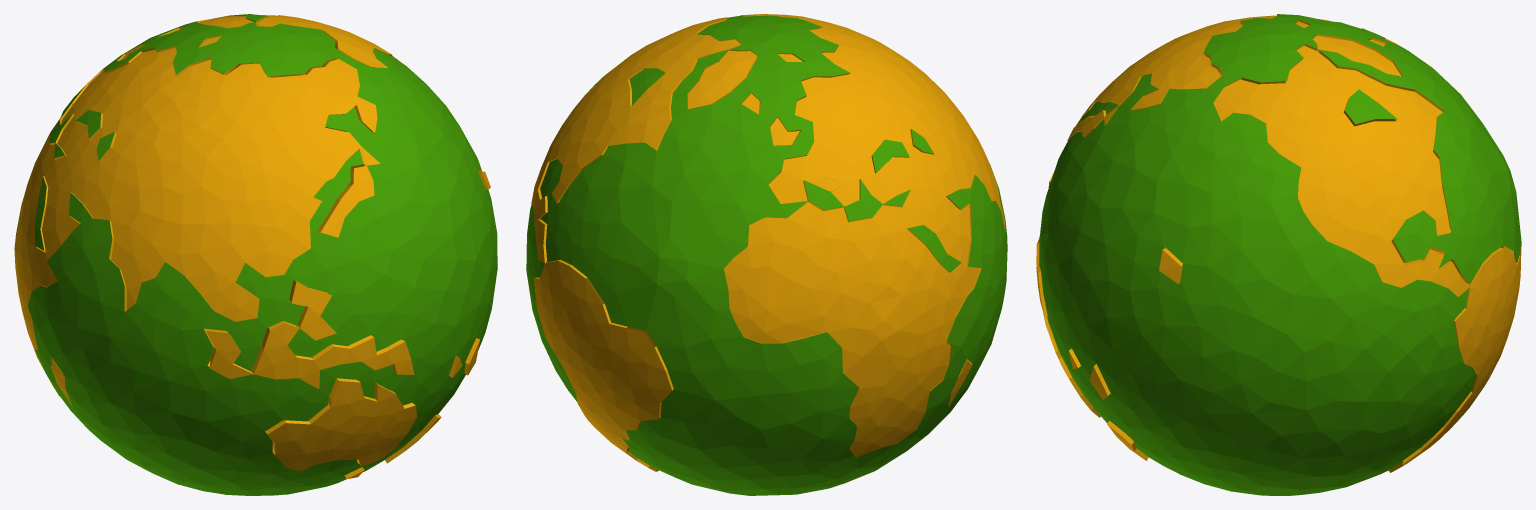
The model's file is Earth4.fbx.
3 renders of one model, left to right at view 1: azimuth 30°, elevation 25°; view 2: azimuth 150°, elevation 25°; view 3: azimuth 270°, elevation 25°, orthographic.
Parts seen in each view (by area): view 1: Sphere; view 2: Sphere; view 3: Sphere.
Part boxes in pixels (x1,y1,x2,y2): Sphere: (14, 14, 497, 495); Sphere: (526, 14, 1007, 495); Sphere: (1036, 14, 1521, 495).
Bounding box in the file's own units: 210 × 210 × 212.
